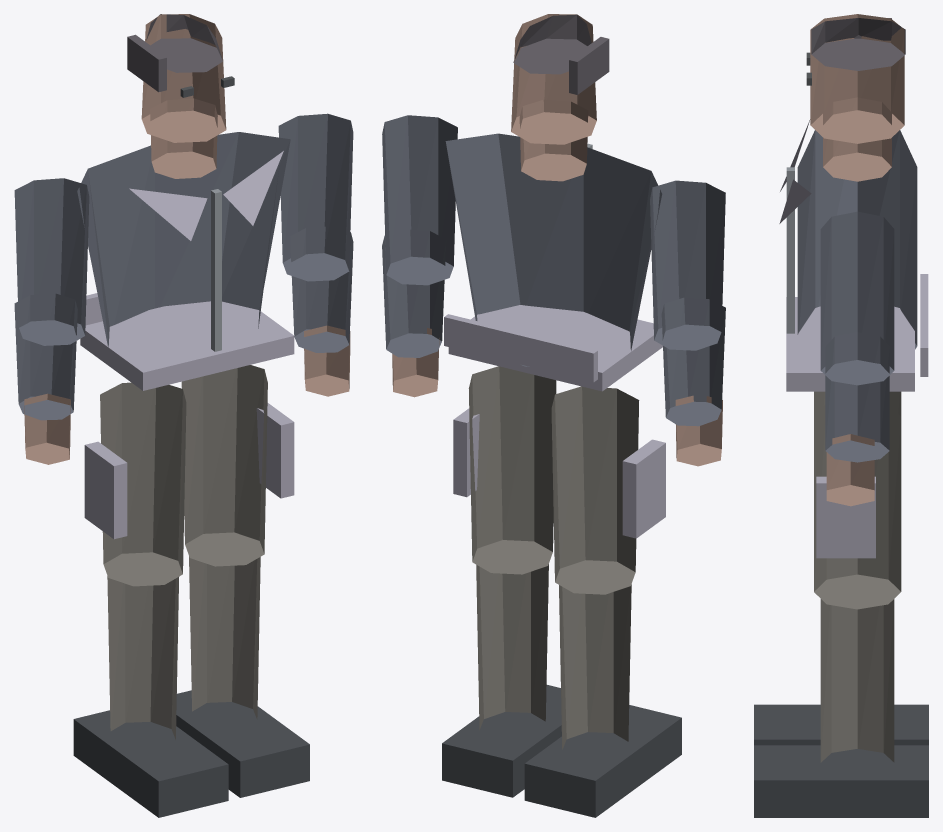
File: mystery_character_night.glb
The picture shows the model from 3 angles, left to right: view 1: azimuth 30°, elevation 25°; view 2: azimuth 150°, elevation 25°; view 3: azimuth 270°, elevation 25°; orthographic projection. The views are drawn at different scales.
Parts seen in each view (by area): view 1: Jacket, Thigh.R, Thigh.L, Hem, Shoe.L, UpperArm.R, UpperArm.L, Shin.R, Shin.L, Shoe.R, Forearm.L, Head (+10 smaller); view 2: Jacket, Thigh.R, Thigh.L, UpperArm.R, Shoe.L, UpperArm.L, Shin.L, Shin.R, Shoe.R, Hem, Forearm.L, Forearm.R (+9 smaller); view 3: Shoe.R, Jacket, Shin.R, UpperArm.R, Thigh.R, Head, Forearm.R, Hem, Shoe.L, Hair, Pocket.R, Neck (+5 smaller).
Boxes of the visible parts, <box> form: Jacket: <box>77,132,290,347</box>; Thigh.R: <box>181,365,267,566</box>; Thigh.L: <box>100,382,186,586</box>; Hem: <box>80,301,294,390</box>; Shoe.L: <box>73,710,228,817</box>; UpperArm.R: <box>278,113,353,281</box>; UpperArm.L: <box>14,178,89,345</box>; Shin.R: <box>189,556,260,719</box>; Shin.L: <box>107,576,178,739</box>; Shoe.R: <box>176,690,309,797</box>; Forearm.L: <box>14,293,77,420</box>; Head: <box>141,14,226,142</box>; Jacket: <box>445,133,662,366</box>; Thigh.R: <box>468,366,556,574</box>; Thigh.L: <box>551,386,639,594</box>; UpperArm.R: <box>382,115,457,285</box>; Shoe.L: <box>524,705,681,817</box>; UpperArm.L: <box>650,180,725,350</box>; Shin.L: <box>559,584,631,749</box>; Shin.R: <box>476,564,548,730</box>; Shoe.R: <box>442,685,561,797</box>; Hem: <box>448,305,662,391</box>; Forearm.L: <box>661,297,725,426</box>; Forearm.R: <box>382,229,446,357</box>; Shoe.R: <box>754,745,928,817</box>; Jacket: <box>797,130,917,349</box>; Shin.R: <box>820,599,894,762</box>; UpperArm.R: <box>820,211,894,385</box>; Thigh.R: <box>814,404,901,609</box>; Head: <box>810,14,904,143</box>; Forearm.R: <box>825,332,889,462</box>; Hem: <box>786,297,914,391</box>; Shoe.L: <box>754,704,928,745</box>; Hair: <box>811,18,905,70</box>; Pocket.R: <box>816,476,875,558</box>; Neck: <box>823,97,891,181</box>.
Bounding box in the file's own units: 0.86 × 1.8 × 0.38.
